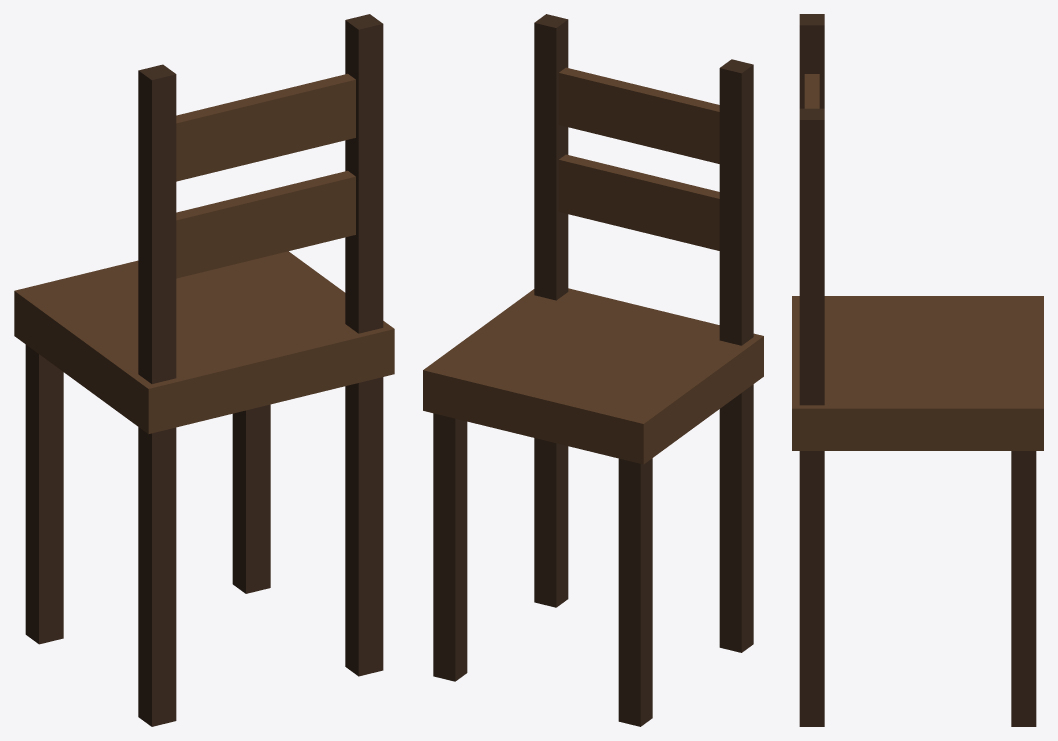
File: SM_Wood_Chair_B.glb
3 views of the same model, side by side, from view 1: azimuth 30°, elevation 25°; view 2: azimuth 150°, elevation 25°; view 3: azimuth 270°, elevation 25° (orthographic). The views are drawn at different scales.
Visible parts, largest first — view 1: SM_Wood_Chair_B; view 2: SM_Wood_Chair_B; view 3: SM_Wood_Chair_B.
Boxes of the visible parts, x1,y1,x2,y2 form: SM_Wood_Chair_B: (14, 14, 394, 726); SM_Wood_Chair_B: (423, 14, 763, 726); SM_Wood_Chair_B: (792, 14, 1043, 726).
Bounding box in the file's own units: 0.394 × 0.989 × 0.372.
Materials: 1 (1 with a texture image).
